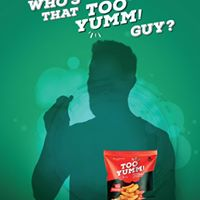plastic: (104, 151, 157, 199)
tooyumm: (78, 1, 145, 31), (116, 159, 148, 179)
